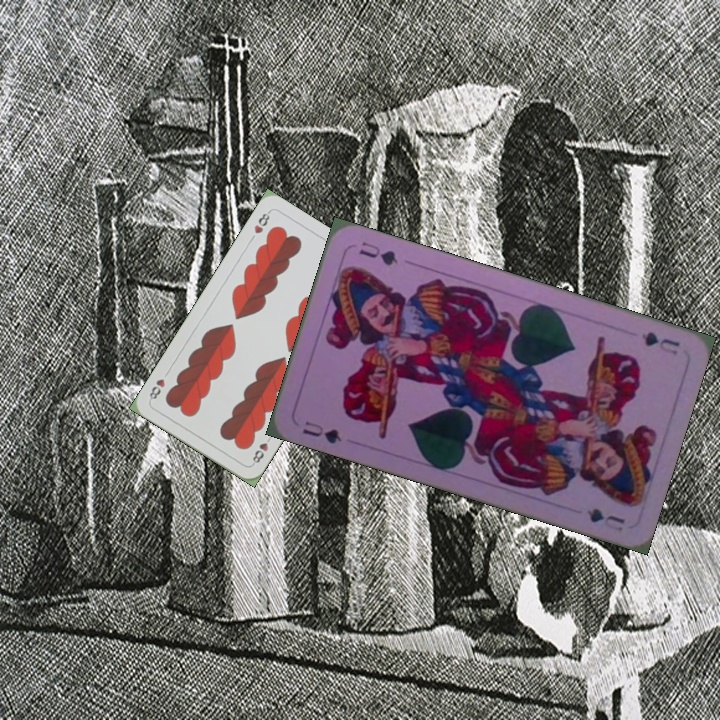GU: (298, 416, 345, 447), (637, 327, 682, 358)
H8: (248, 431, 275, 467), (250, 207, 273, 236)
